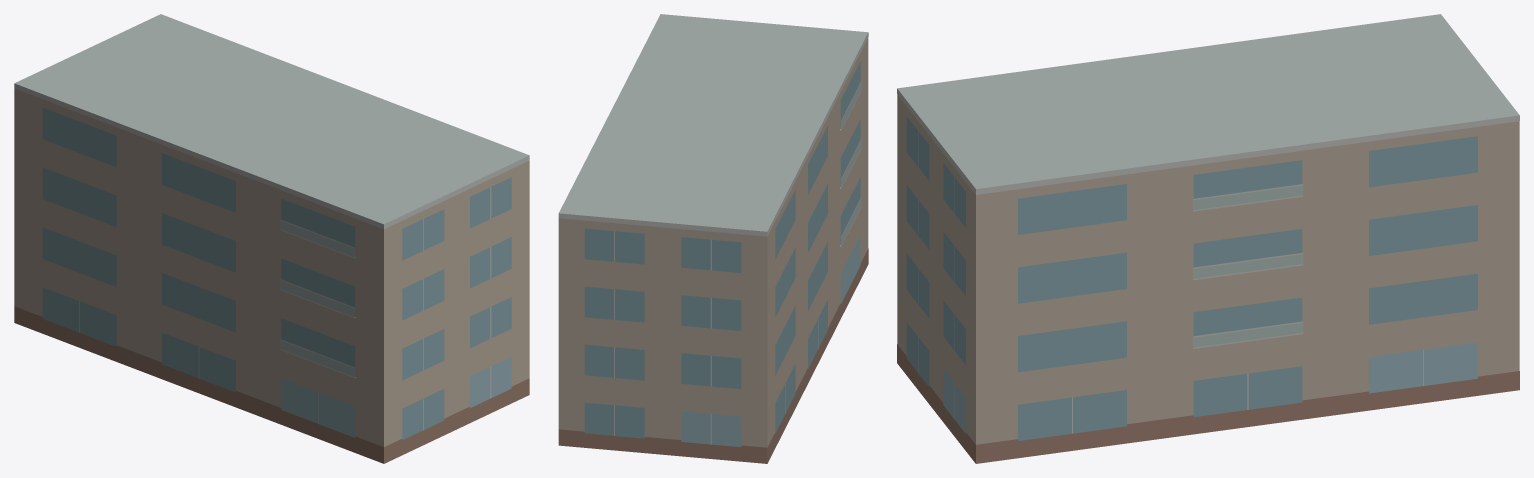
Rendered from survey-upis-32960352.glb.
The picture shows the model from 3 angles, left to right: view 1: azimuth 30°, elevation 25°; view 2: azimuth 150°, elevation 25°; view 3: azimuth 270°, elevation 25°; orthographic projection. The views are drawn at different scales.
Visible parts, largest first — view 1: survey-upis-32960352.tmp; view 2: survey-upis-32960352.tmp; view 3: survey-upis-32960352.tmp.
Boxes of the visible parts, x1,y1,x2,y2 form: survey-upis-32960352.tmp: (14,14,529,463); survey-upis-32960352.tmp: (558,14,868,463); survey-upis-32960352.tmp: (897,14,1519,463).
Bounding box in the file's own units: 15.87 × 11.6 × 23.84.
